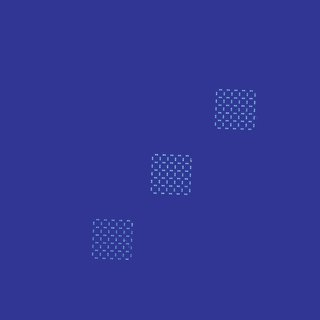overheated: (131, 223, 133, 225), (123, 239, 125, 241), (190, 160, 192, 162)
